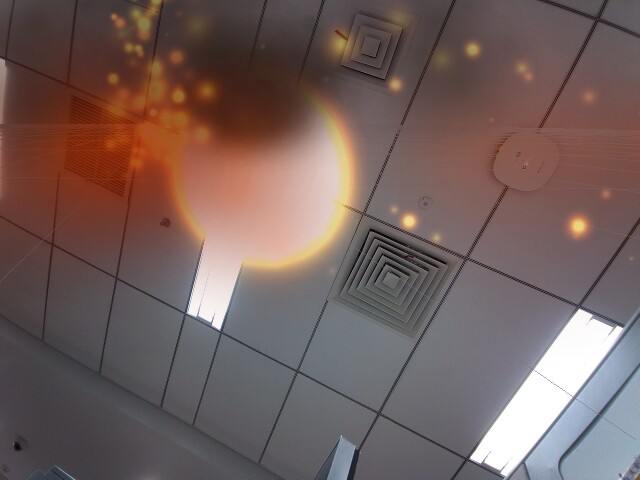fire: (165, 65, 353, 273)
